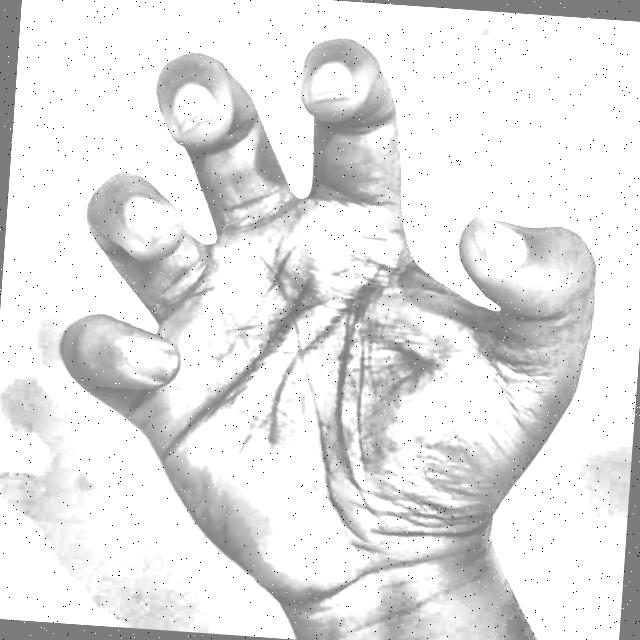Ja: (26, 5, 632, 640)
